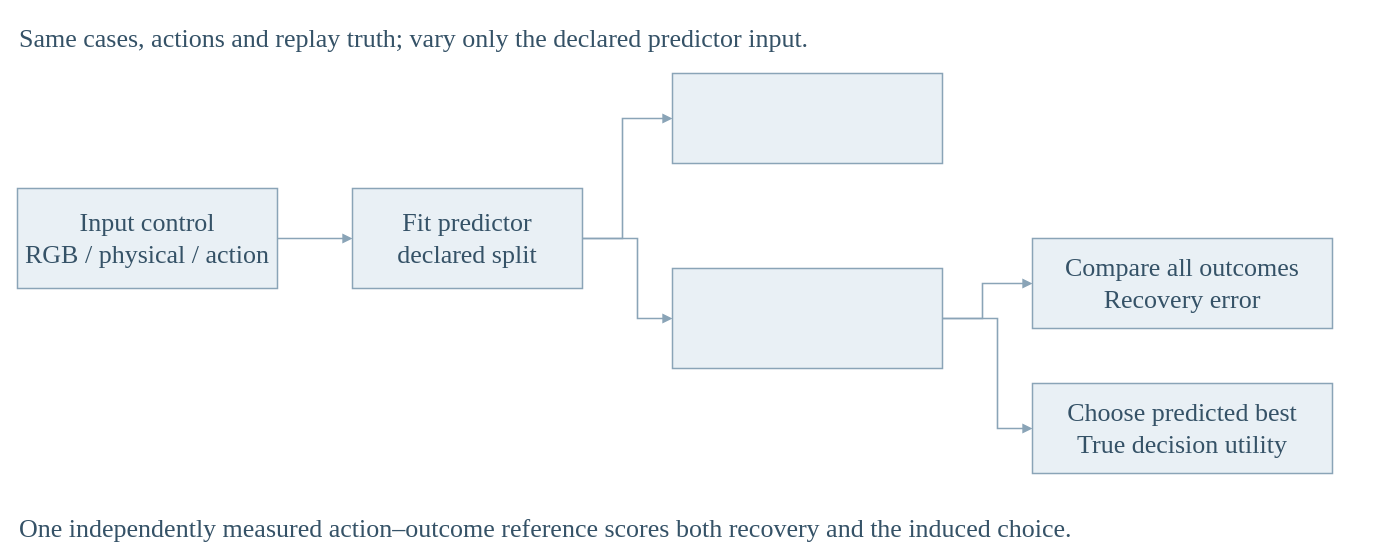
Some shapes in this 1390 by 560 pixel diagram are drawn without their labels. Here are the shapes that lost their labels. From the top down, the centre of each, then its label:
At point 807,118: "Selected-target probe State-target accuracy".
At point 807,318: "Query every action Predicted utilities".
